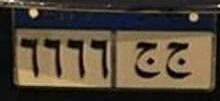6: (88, 36, 111, 81), (65, 35, 86, 81), (18, 34, 39, 79), (42, 36, 62, 80)
jeem: (132, 40, 161, 84), (165, 38, 193, 83)
